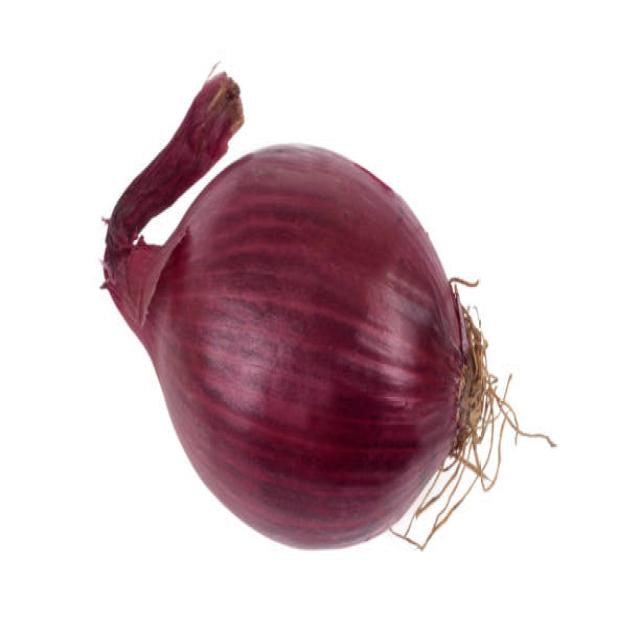onion: (106, 140, 473, 559)
